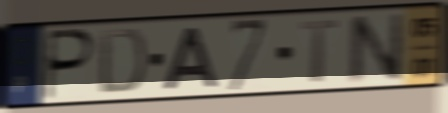7: (227, 17, 271, 94)
A: (160, 25, 221, 93)
D: (97, 27, 148, 97)
N: (347, 10, 407, 88)
P: (41, 27, 98, 103)
T: (298, 17, 341, 86)
